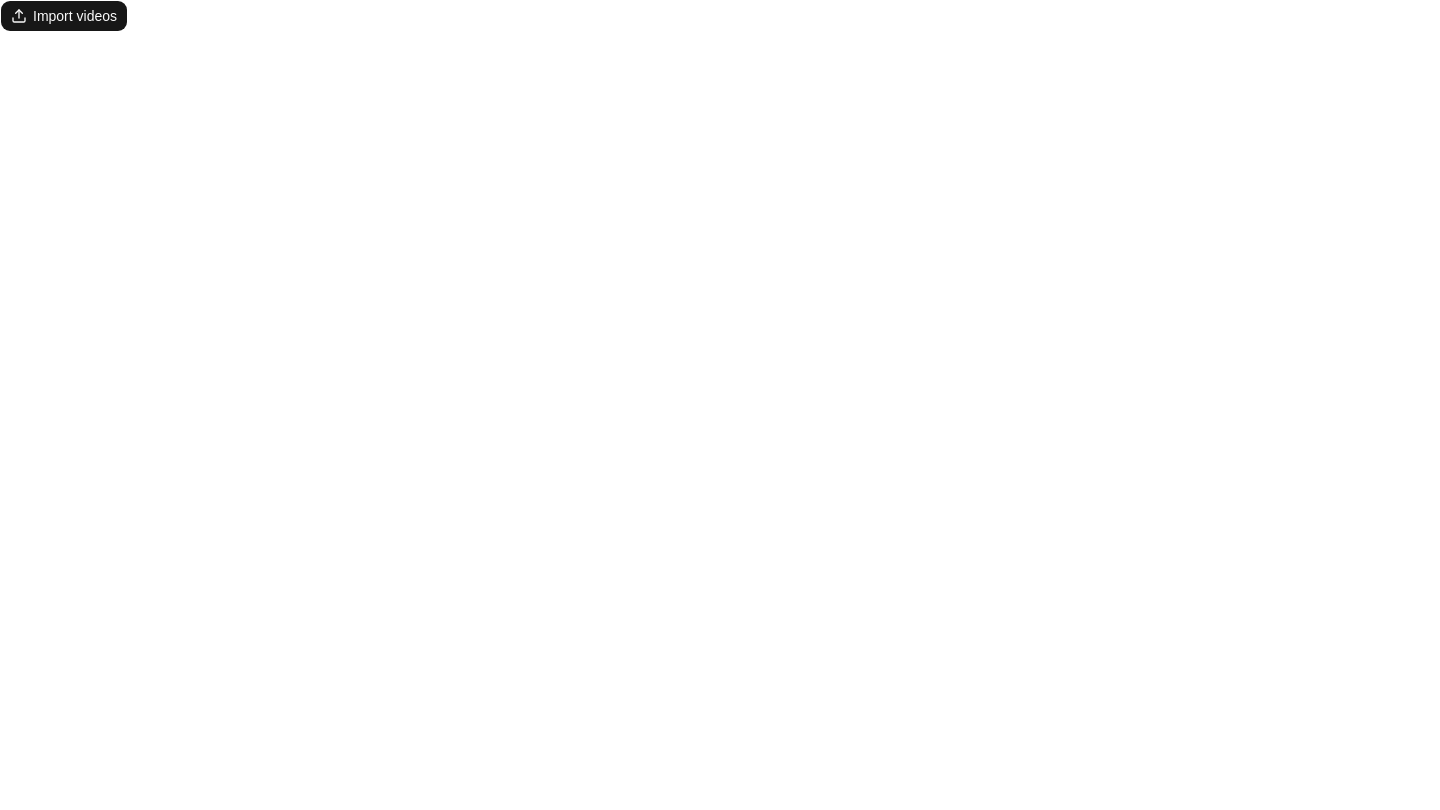
ImportButton › imports every picked file and lists the ones the API rejected
This screenshot has width=1440, height=810.
Click the button "Import videos" at [64, 16], box [0,0,128,32]
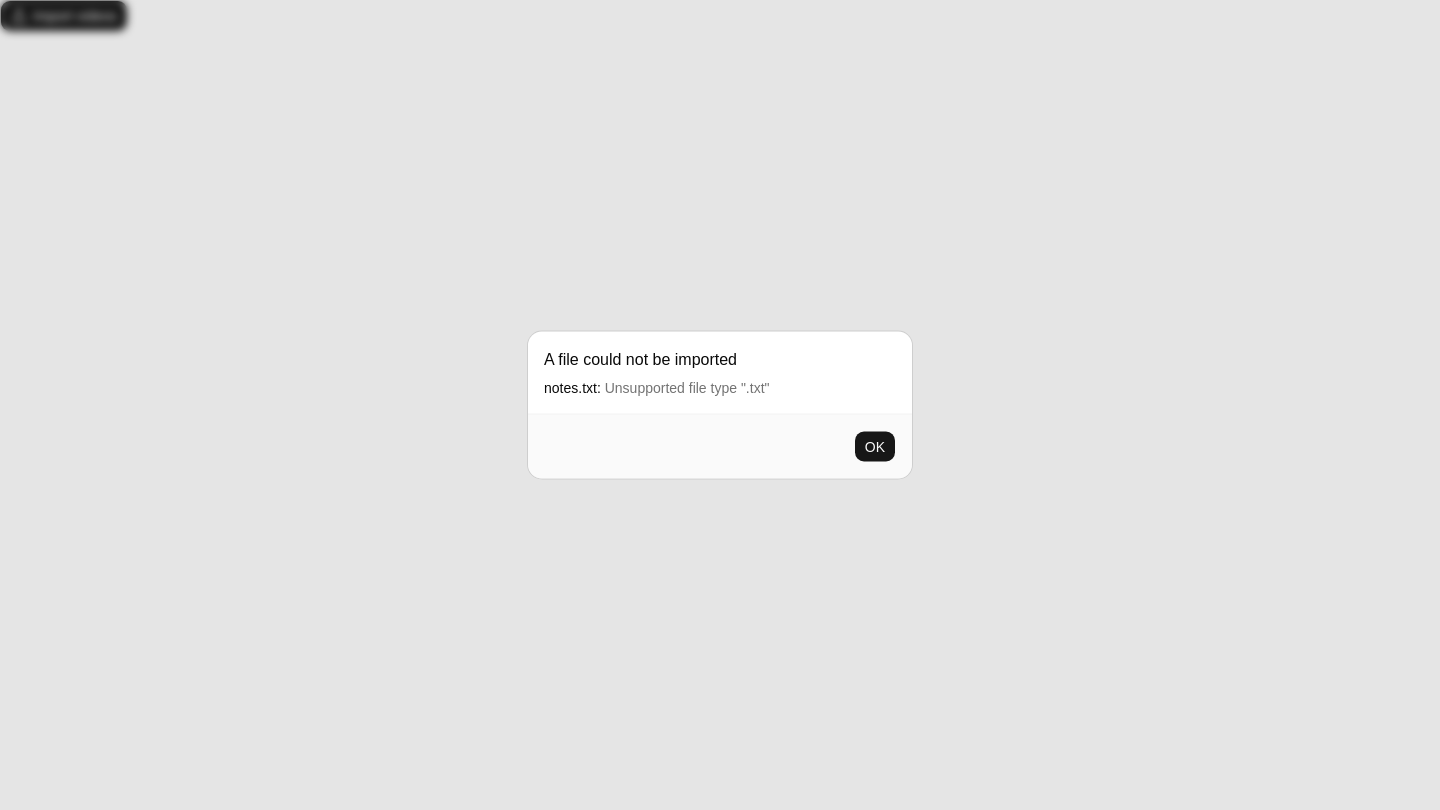
Check: the dialog shows "A file could not be imported", box [544,350,737,368]
Check: the dialog shows "notes.txt: Unsupported file type \".txt\"", box [528,332,912,478]
Click the button "OK" at [875, 446], box [854,430,896,462]
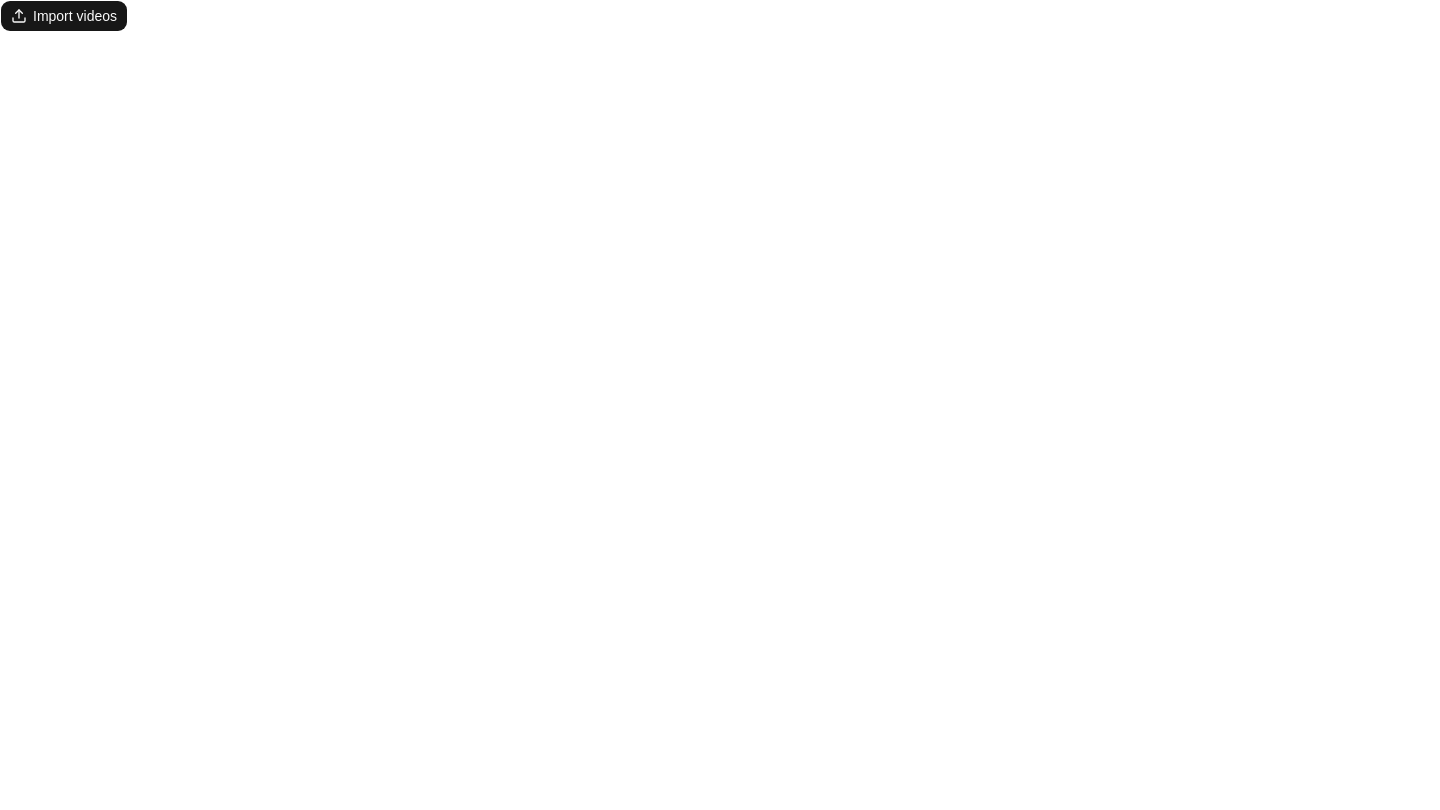
Check: the dialog is gone
